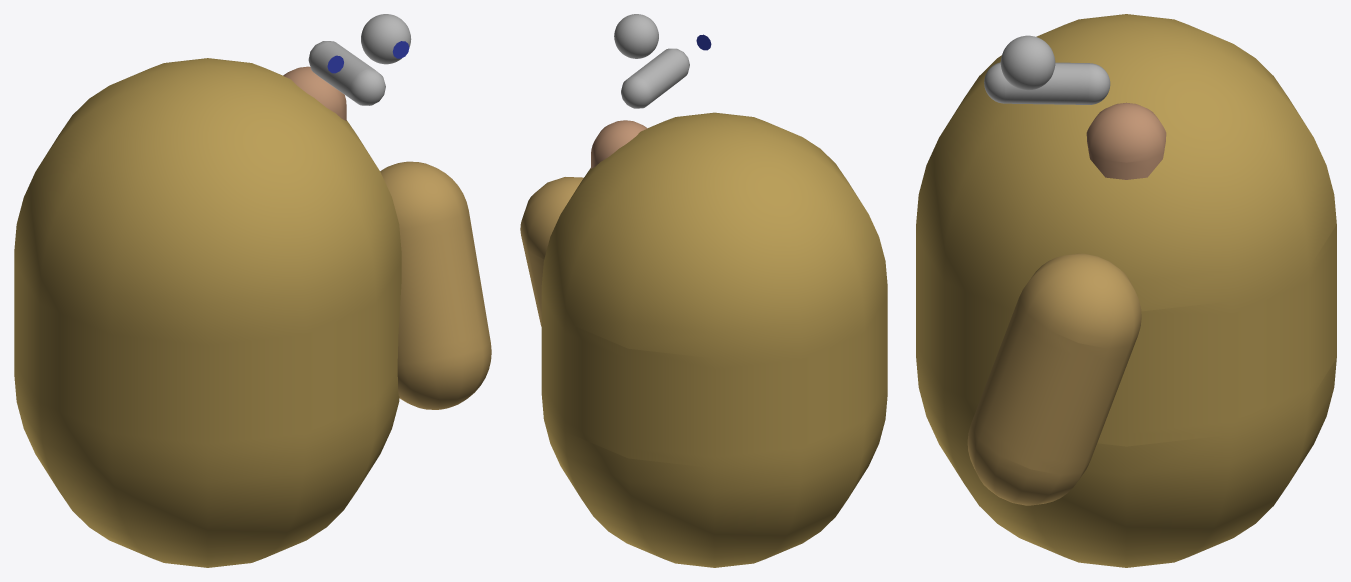
Rendered from innoonut-garbage-phone-do-not-copy-untiene.fbx.
The picture shows the model from 3 angles, left to right: view 1: azimuth 30°, elevation 25°; view 2: azimuth 150°, elevation 25°; view 3: azimuth 270°, elevation 25°; orthographic projection. The views are drawn at different scales.
Visible parts, largest first — view 1: Capsule2, Capsule1, Capsule4, Sphere1, Capsule3; view 2: Capsule2, Capsule1, Capsule4, Sphere1, Capsule3; view 3: Capsule2, Capsule1, Capsule3, Capsule4, Sphere1.
Boxes of the visible parts, x1,y1,x2,y2 form: Capsule2: [14, 58, 401, 567]; Capsule1: [380, 161, 491, 409]; Capsule4: [308, 41, 385, 105]; Sphere1: [361, 14, 411, 64]; Capsule3: [283, 66, 346, 120]; Capsule2: [541, 112, 887, 567]; Capsule1: [520, 177, 583, 326]; Capsule4: [621, 48, 689, 108]; Sphere1: [614, 14, 658, 58]; Capsule3: [591, 120, 647, 168]; Capsule2: [916, 14, 1336, 567]; Capsule1: [967, 253, 1141, 505]; Capsule3: [1086, 102, 1166, 179]; Capsule4: [984, 62, 1110, 104]; Sphere1: [1000, 35, 1055, 90].
Bounding box in the file's own units: 2.38 × 3.04 × 2.
